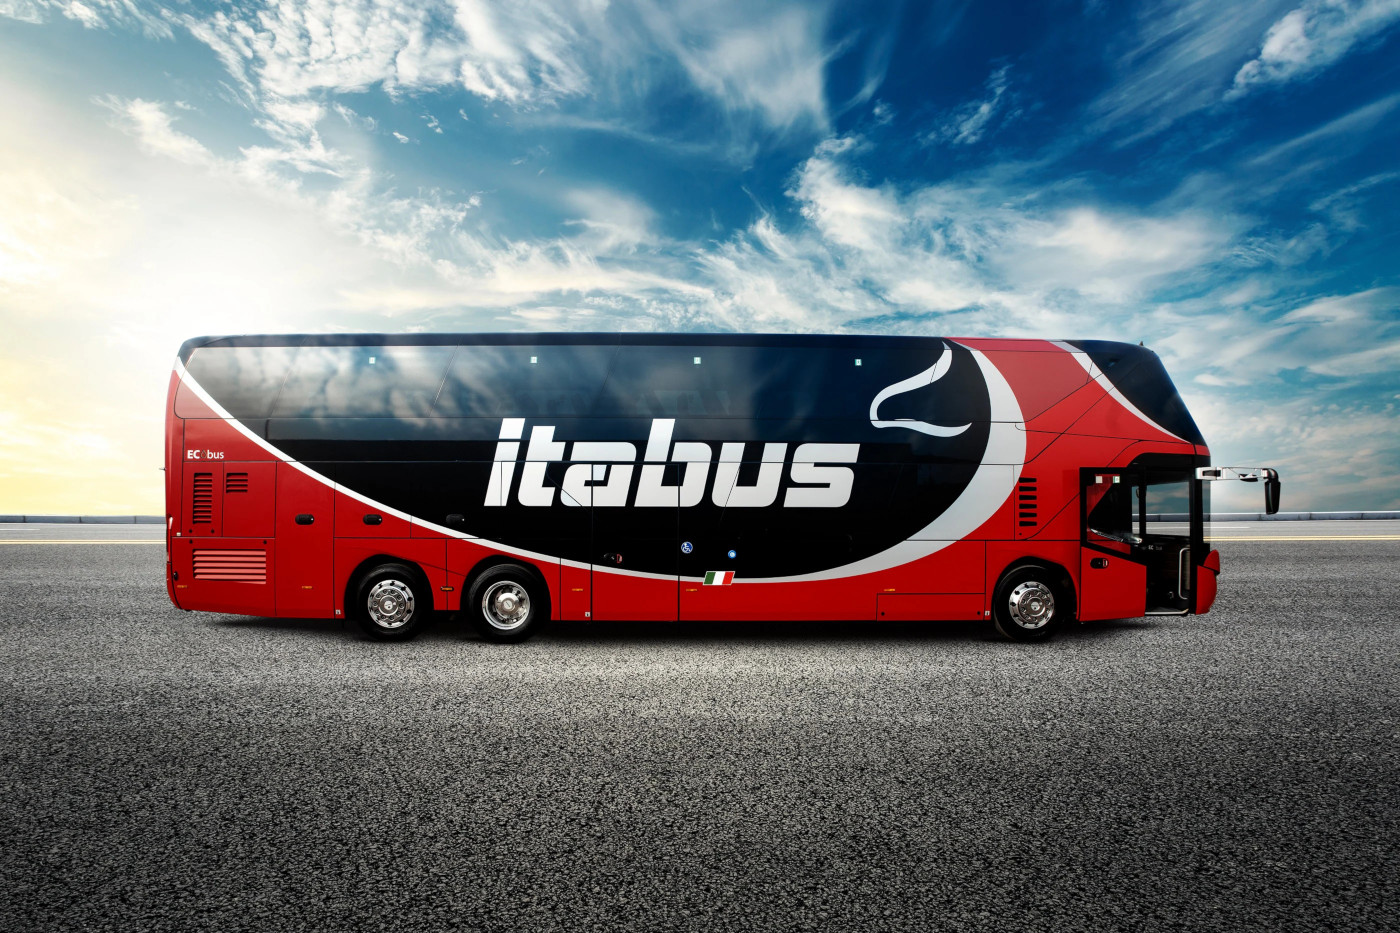autobus: (163, 330, 1284, 644)
